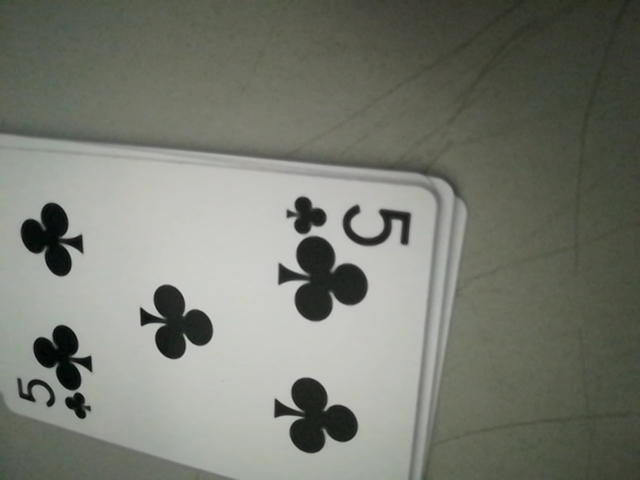mh 5: (288, 191, 419, 245), (14, 375, 95, 422)
